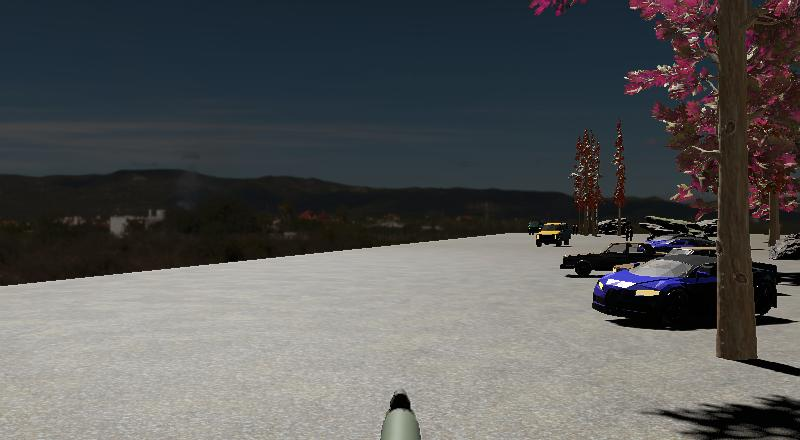car: (590, 251, 780, 330), (559, 240, 683, 278), (639, 231, 702, 256), (534, 222, 572, 249)
